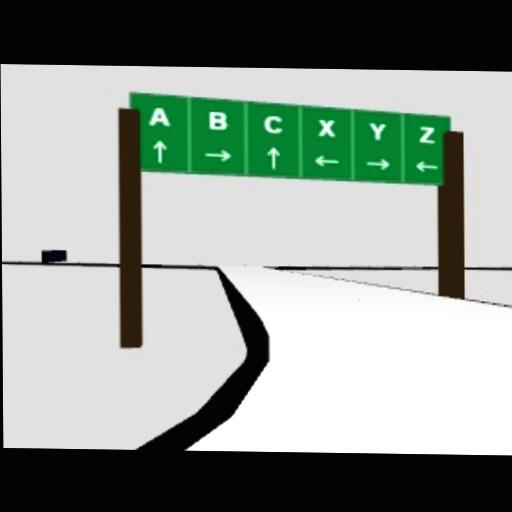A: (148, 107, 170, 126)
B: (207, 111, 228, 130)
C: (263, 114, 282, 134)
Left: (314, 155, 341, 167), (414, 160, 438, 171)
Right: (203, 148, 232, 162), (364, 157, 390, 170)
Straight: (151, 138, 167, 162), (265, 145, 279, 169)
X: (318, 118, 336, 136)
Y: (367, 121, 386, 140)
Z: (418, 124, 436, 142)
